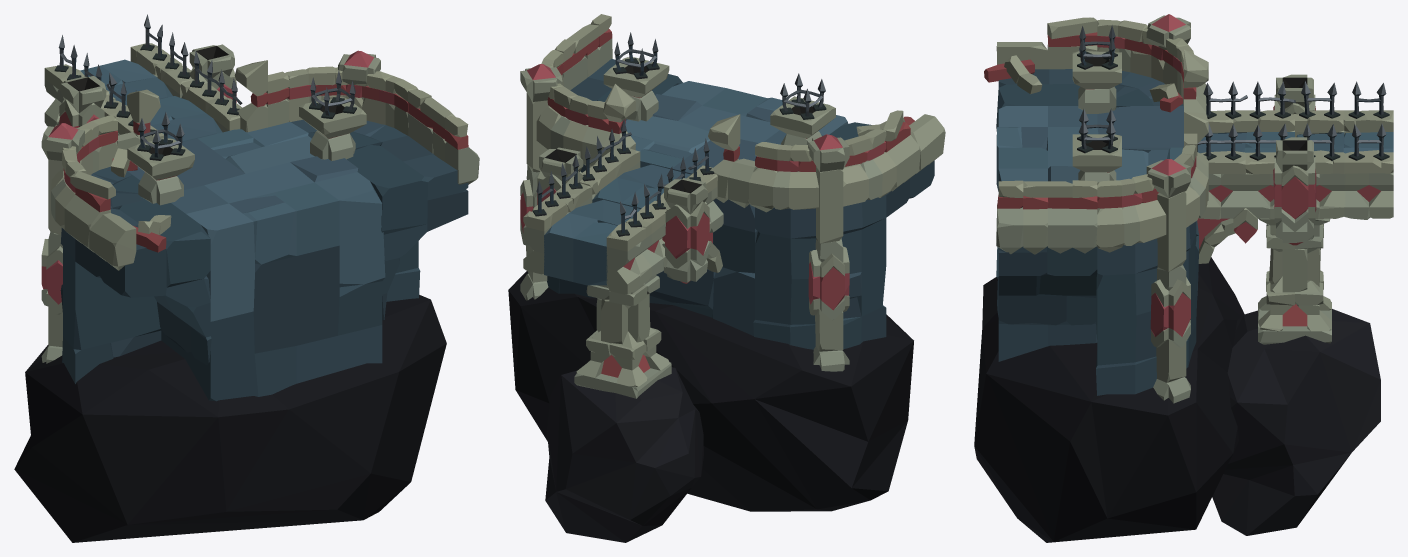
File: hallway_transition_to_bridge.fbx
The picture shows the model from 3 angles, left to right: view 1: azimuth 30°, elevation 25°; view 2: azimuth 150°, elevation 25°; view 3: azimuth 270°, elevation 25°; orthographic projection. The views are drawn at different scales.
Parts seen in each view (by area): view 1: hallway_transition_to_bridge; view 2: hallway_transition_to_bridge; view 3: hallway_transition_to_bridge.
Boxes of the visible parts, box(x1,y1,x2,y2) form: hallway_transition_to_bridge: box(14, 14, 479, 542); hallway_transition_to_bridge: box(508, 14, 945, 542); hallway_transition_to_bridge: box(974, 14, 1393, 542).
Bounding box in the file's own units: 864 × 960 × 849.
